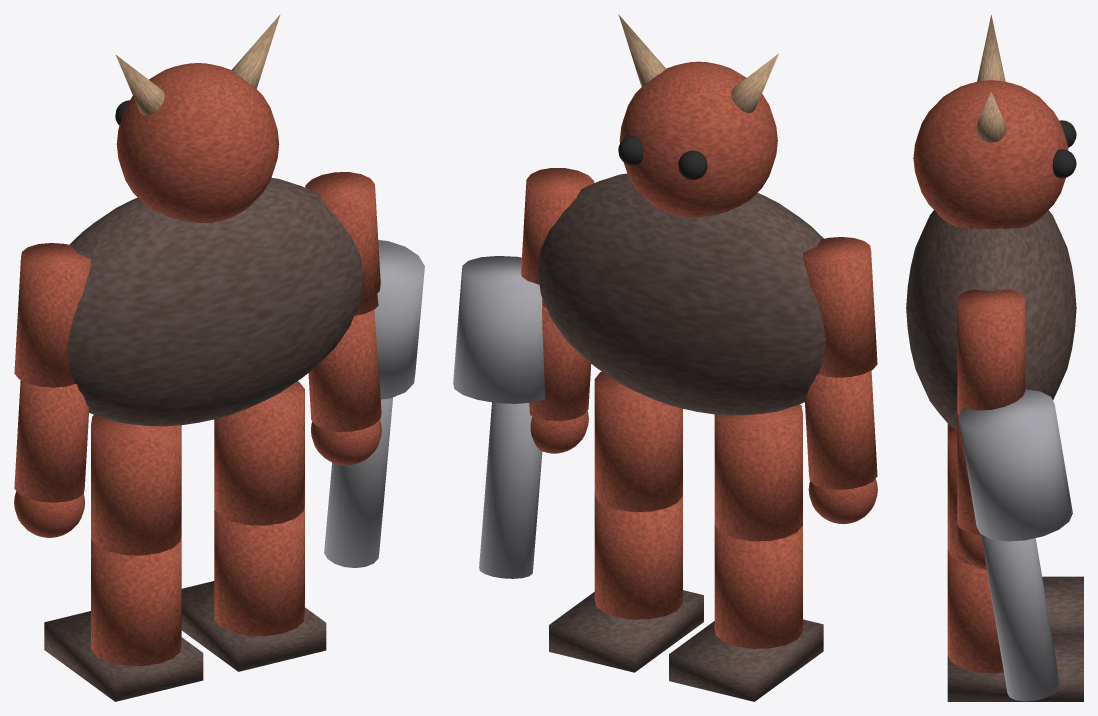
File: oni.glb
The picture shows the model from 3 angles, left to right: view 1: azimuth 30°, elevation 25°; view 2: azimuth 150°, elevation 25°; view 3: azimuth 270°, elevation 25°; orthographic projection. The views are drawn at different scales.
Parts seen in each view (by area): view 1: Torso, Head, ThighL, ThighR, ShinR, ShinL, UpperArmL, ForearmL, ClubShaft, ForearmR, ClubHead, FootL (+6 smaller); view 2: Torso, Head, ClubHead, ThighL, ThighR, ShinR, ShinL, ClubShaft, UpperArmL, ForearmL, FootR, FootL (+7 smaller); view 3: Torso, Head, ClubHead, ClubShaft, UpperArmR, ShinR, FootR, FootL, ThighR, ForearmR, Horn, Horn.001 (+2 smaller).
Boxes of the visible parts, left/top/right/bottom form: Torso: left=67, top=178, right=363, bottom=426; Head: left=116, top=63, right=279, bottom=222; ThighL: left=91, top=415, right=181, bottom=555; ThighR: left=214, top=381, right=304, bottom=525; ShinR: left=214, top=504, right=304, bottom=635; ShinL: left=91, top=536, right=181, bottom=665; UpperArmL: left=14, top=243, right=90, bottom=387; ForearmL: left=14, top=380, right=88, bottom=502; ClubShaft: left=324, top=397, right=392, bottom=567; ForearmR: left=308, top=310, right=381, bottom=431; ClubHead: left=374, top=240, right=424, bottom=399; FootL: left=44, top=611, right=203, bottom=701; Torso: left=537, top=173, right=826, bottom=415; Head: left=619, top=61, right=777, bottom=217; ClubHead: left=453, top=256, right=545, bottom=403; ThighL: left=714, top=404, right=802, bottom=541; ThighR: left=594, top=371, right=682, bottom=511; ShinR: left=594, top=492, right=682, bottom=619; ShinL: left=714, top=522, right=802, bottom=648; ClubShaft: left=479, top=402, right=542, bottom=578; UpperArmL: left=803, top=237, right=877, bottom=377; ForearmL: left=805, top=370, right=877, bottom=489; FootR: left=549, top=590, right=703, bottom=672; FootL: left=669, top=619, right=823, bottom=701; Torso: left=906, top=210, right=1076, bottom=429; Head: left=913, top=80, right=1068, bottom=228; ClubHead: left=958, top=389, right=1072, bottom=541; ClubShaft: left=981, top=534, right=1060, bottom=701; UpperArmR: left=957, top=289, right=1025, bottom=415; ShinR: left=947, top=550, right=1003, bottom=673; FootR: left=947, top=634, right=1083, bottom=701; FootL: left=1042, top=576, right=1083, bottom=634; ThighR: left=947, top=429, right=973, bottom=565; ForearmR: left=957, top=413, right=980, bottom=534; Horn: left=977, top=15, right=1005, bottom=81; Horn.001: left=976, top=91, right=1006, bottom=142.
Size of the model in its own units: 0.7246 by 1.06 by 0.2852.
6 materials, 3 textured.
